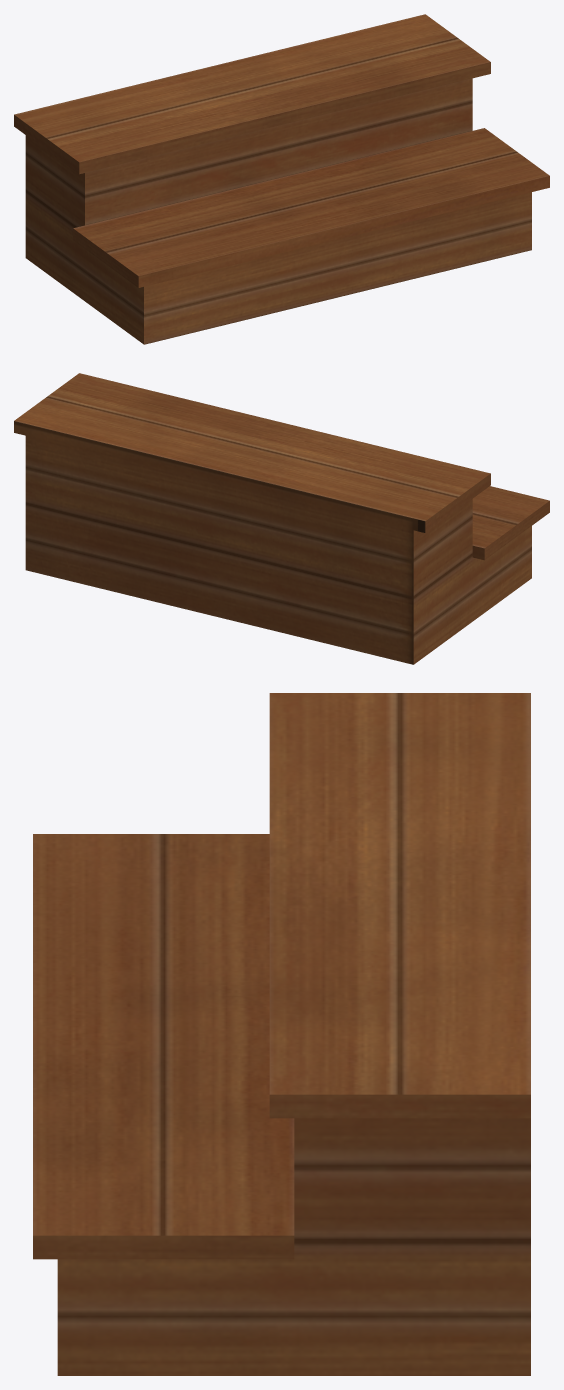
File: GardenJacuzzi01Steps.FBX
The picture shows the model from 3 angles, top to bottom: view 1: azimuth 30°, elevation 25°; view 2: azimuth 150°, elevation 25°; view 3: azimuth 270°, elevation 25°; orthographic projection. The views are drawn at different scales.
Visible parts, largest first — view 1: GardenJacuzzi01Steps; view 2: GardenJacuzzi01Steps; view 3: GardenJacuzzi01Steps.
Boxes of the visible parts, x1=… form: GardenJacuzzi01Steps: x1=14, y1=14, x2=549, y2=344; GardenJacuzzi01Steps: x1=14, y1=373, x2=549, y2=664; GardenJacuzzi01Steps: x1=33, y1=693, x2=530, y2=1375.
Size of what is drawn, in the model's own units: 1.09 by 0.3693 by 0.5692.
